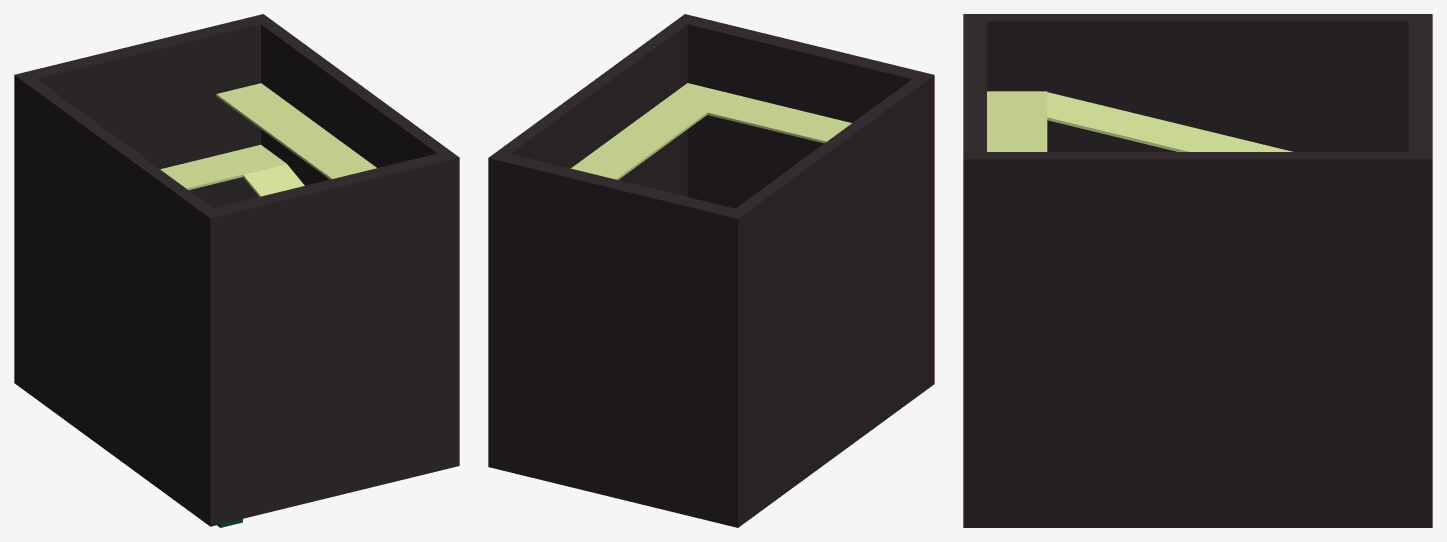
File: Pista6.fbx
The picture shows the model from 3 angles, left to right: view 1: azimuth 30°, elevation 25°; view 2: azimuth 150°, elevation 25°; view 3: azimuth 270°, elevation 25°; orthographic projection. The views are drawn at different scales.
Parts seen in each view (by area): view 1: Cube.010, Cube.011, Cube.006, Cube.005; view 2: Cube.010, Cube.011, Cube.008; view 3: Cube.010, Cube.007, Cube.008.
Part boxes in pixels (x1,y1,x2,y2): Cube.010: (14, 14, 459, 526); Cube.011: (216, 83, 376, 179); Cube.006: (160, 144, 286, 190); Cube.005: (243, 164, 304, 196); Cube.010: (488, 14, 934, 527); Cube.011: (571, 100, 712, 179); Cube.008: (662, 83, 851, 143); Cube.010: (963, 14, 1432, 527); Cube.007: (1047, 92, 1292, 151); Cube.008: (987, 91, 1047, 151).
Size of the model in its own units: 2200 by 2761 by 3000.
